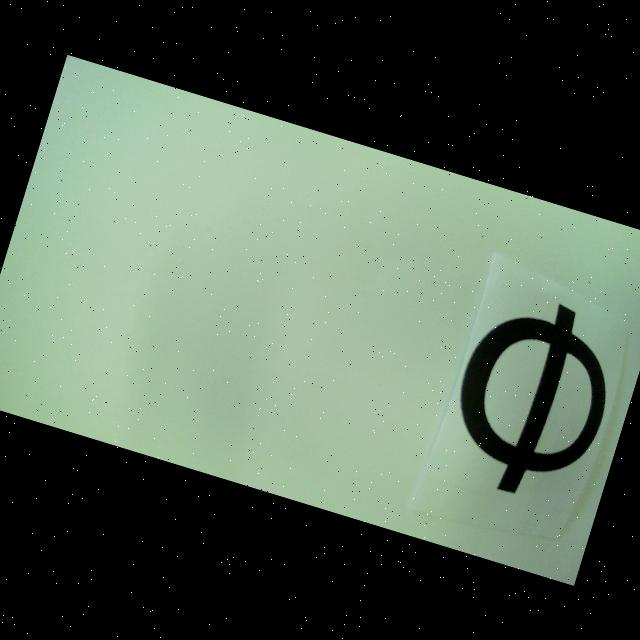PHI: (434, 281, 632, 514)
